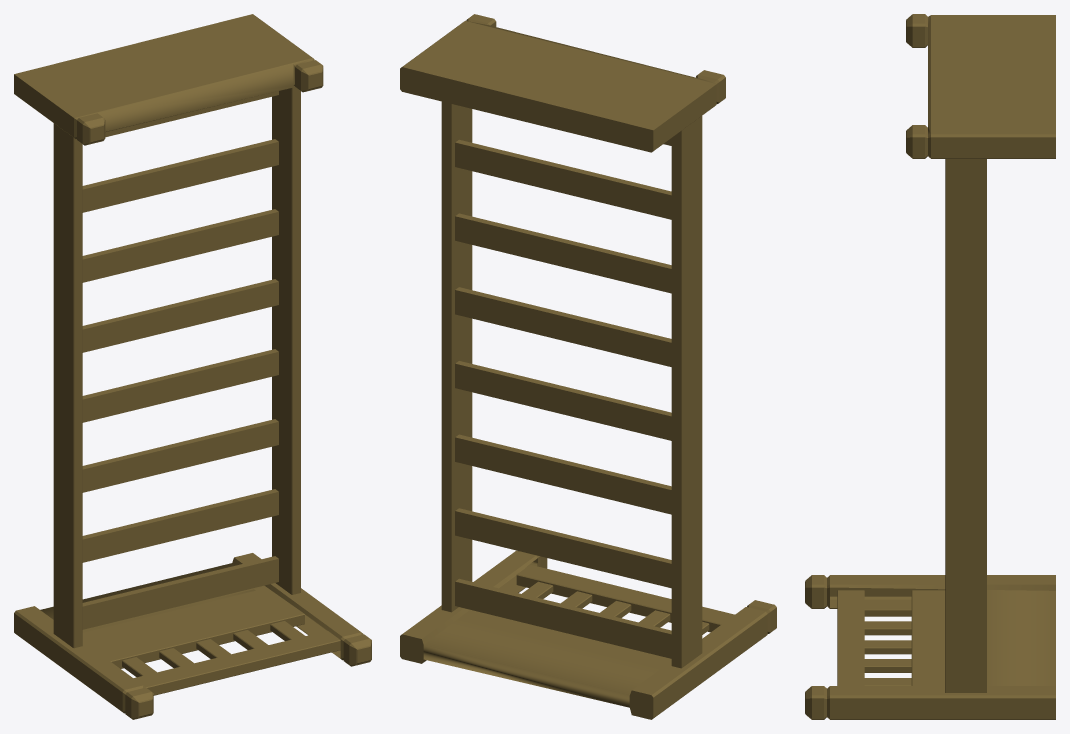
File: Cama.obj
3 renders of one model, left to right at view 1: azimuth 30°, elevation 25°; view 2: azimuth 150°, elevation 25°; view 3: azimuth 270°, elevation 25°, orthographic. The views are drawn at different scales.
Parts seen in each view (by area): view 1: Bed_Material.004; view 2: Bed_Material.004; view 3: Bed_Material.004.
Boxes of the visible parts, x1,y1,x2,y2 form: Bed_Material.004: (14, 14, 371, 719); Bed_Material.004: (400, 14, 776, 719); Bed_Material.004: (805, 14, 1055, 719).
Size of the model in its own units: 0.7864 by 1.76 by 0.6819.
